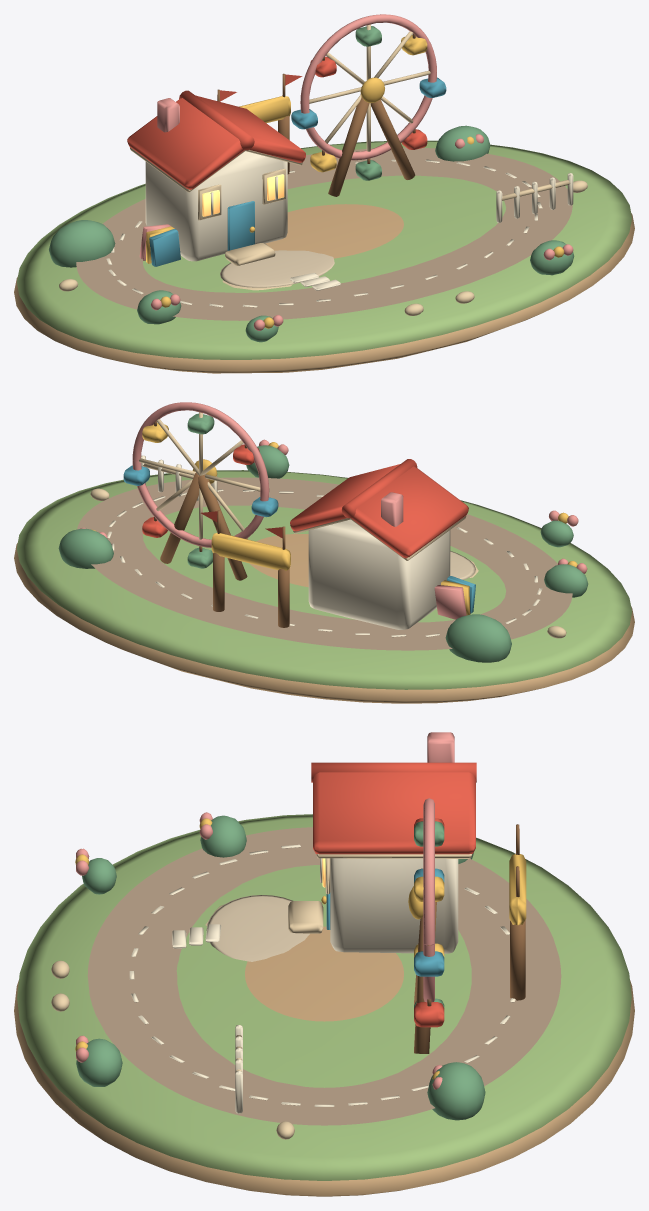
Rendered from environment.glb.
3 views of the same model, one above another, from view 1: azimuth 30°, elevation 25°; view 2: azimuth 150°, elevation 25°; view 3: azimuth 270°, elevation 25° (orthographic). The views are drawn at different scales.
Parts seen in each view (by area): view 1: Environment_grass, Environment_road, Environment_sand, Environment_ivory, Environment_red, Environment_mint, RimAndSpokes_pink, Environment_cream, Environment_paving, Environment_wood, Environment_blue, Environment_yellow (+3 smaller); view 2: Environment_grass, Environment_road, Environment_ivory, Environment_sand, Environment_red, Environment_mint, Environment_wood, RimAndSpokes_pink, Environment_yellow, Environment_pink, RimAndSpokes_cream, Environment_cream (+4 smaller); view 3: Environment_grass, Environment_road, Environment_sand, Environment_red, Environment_ivory, Environment_mint, Environment_paving, Environment_cream, Environment_wood, RimAndSpokes_pink, Environment_yellow, Environment_pink (+2 smaller).
Part boxes in pixels (x1,y1,x2,y2): Environment_grass: (17, 140, 632, 359); Environment_road: (76, 147, 572, 320); Environment_sand: (14, 204, 634, 373); Environment_ivory: (106, 151, 573, 307); Environment_red: (127, 74, 305, 189); Environment_mint: (49, 125, 574, 342); RimAndSpokes_pink: (300, 14, 436, 160); Environment_cream: (59, 147, 587, 315); Environment_paving: (220, 250, 334, 287); Environment_wood: (217, 73, 415, 196); Environment_blue: (149, 201, 254, 266); Environment_yellow: (146, 77, 564, 328); Environment_grass: (16, 470, 632, 689); Environment_road: (77, 477, 572, 650); Environment_ivory: (107, 455, 542, 637); Environment_sand: (14, 534, 634, 703); Environment_red: (200, 459, 468, 558); Environment_mint: (58, 445, 588, 662); Environment_wood: (160, 472, 289, 627); RimAndSpokes_pink: (132, 402, 269, 547); Environment_yellow: (92, 442, 577, 615); Environment_pink: (80, 439, 587, 619); RimAndSpokes_cream: (139, 412, 260, 539); Environment_cream: (90, 463, 566, 638); Environment_grass: (17, 814, 631, 1180); Environment_road: (87, 827, 561, 1125); Environment_sand: (14, 926, 634, 1196); Environment_red: (311, 762, 476, 854); Environment_ivory: (129, 844, 515, 1113); Environment_mint: (76, 815, 485, 1120); Environment_paving: (206, 895, 309, 961); Environment_cream: (51, 854, 471, 1139); Environment_wood: (414, 824, 525, 1053); RimAndSpokes_pink: (423, 798, 434, 1002); Environment_yellow: (75, 818, 526, 1079); Environment_pink: (76, 732, 454, 1089).
Bounding box in the file's own units: 11.3 × 4.2 × 8.
Materials: 3 (3 with a texture image).
